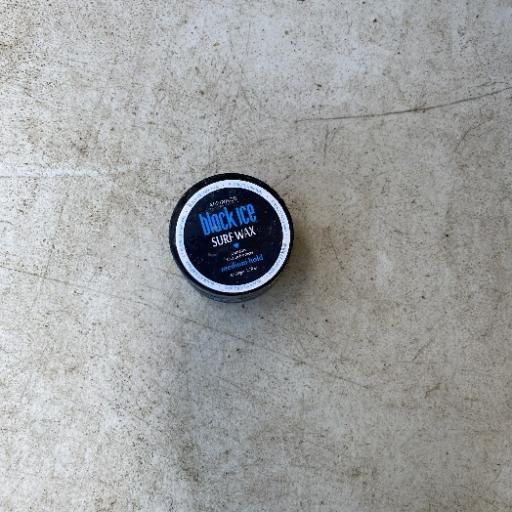Plastic: (166, 170, 295, 305)
